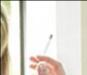Cigarette: (38, 34, 53, 61)
